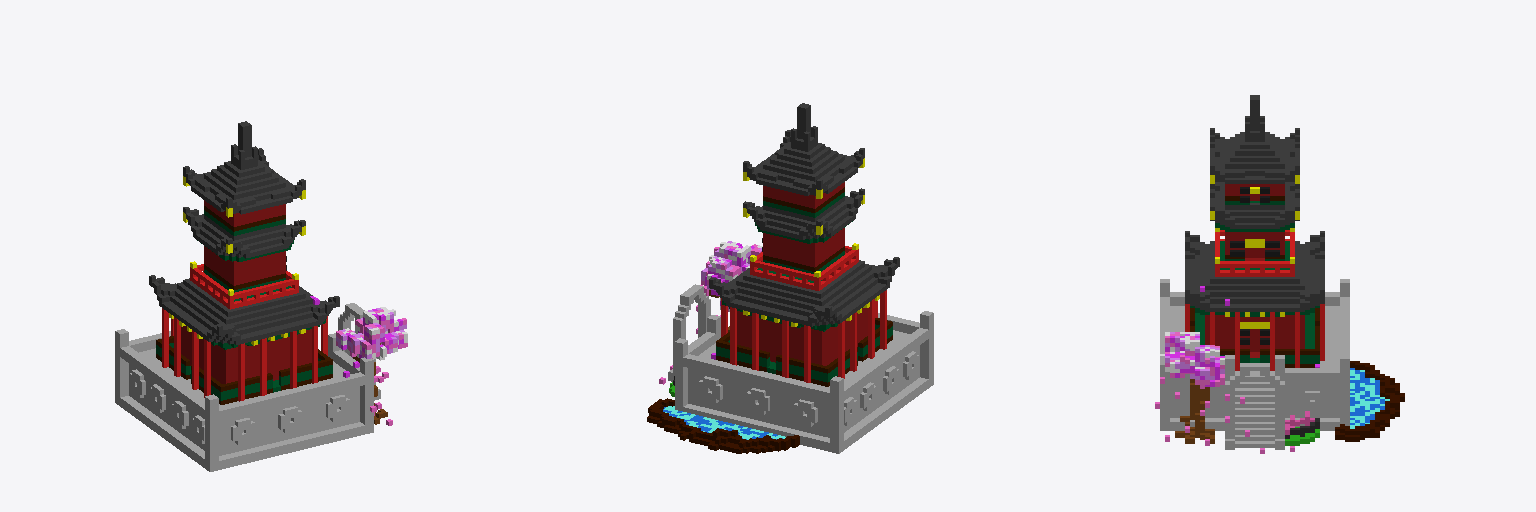
The picture shows the model from 3 angles: view 1: azimuth 30°, elevation 25°; view 2: azimuth 150°, elevation 25°; view 3: azimuth 270°, elevation 25°; orthographic projection.
Size of the model in its own units: 49 by 65 by 50.
Materials: 1 (1 with a texture image).